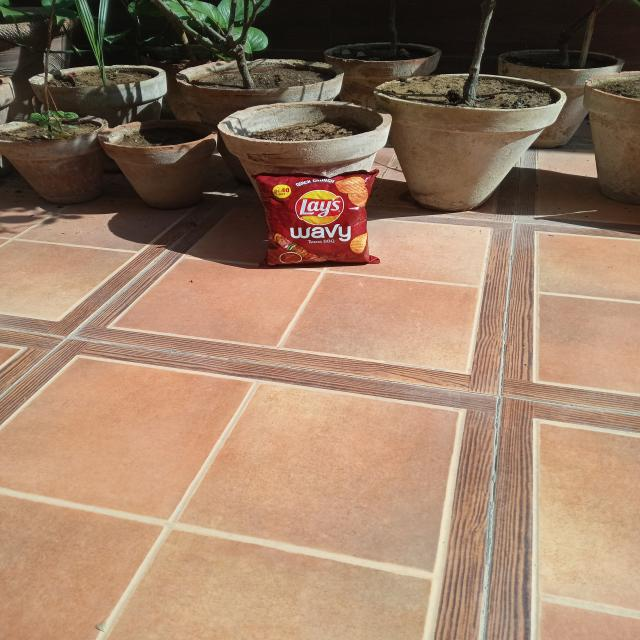Plastic: (258, 173, 369, 264)
